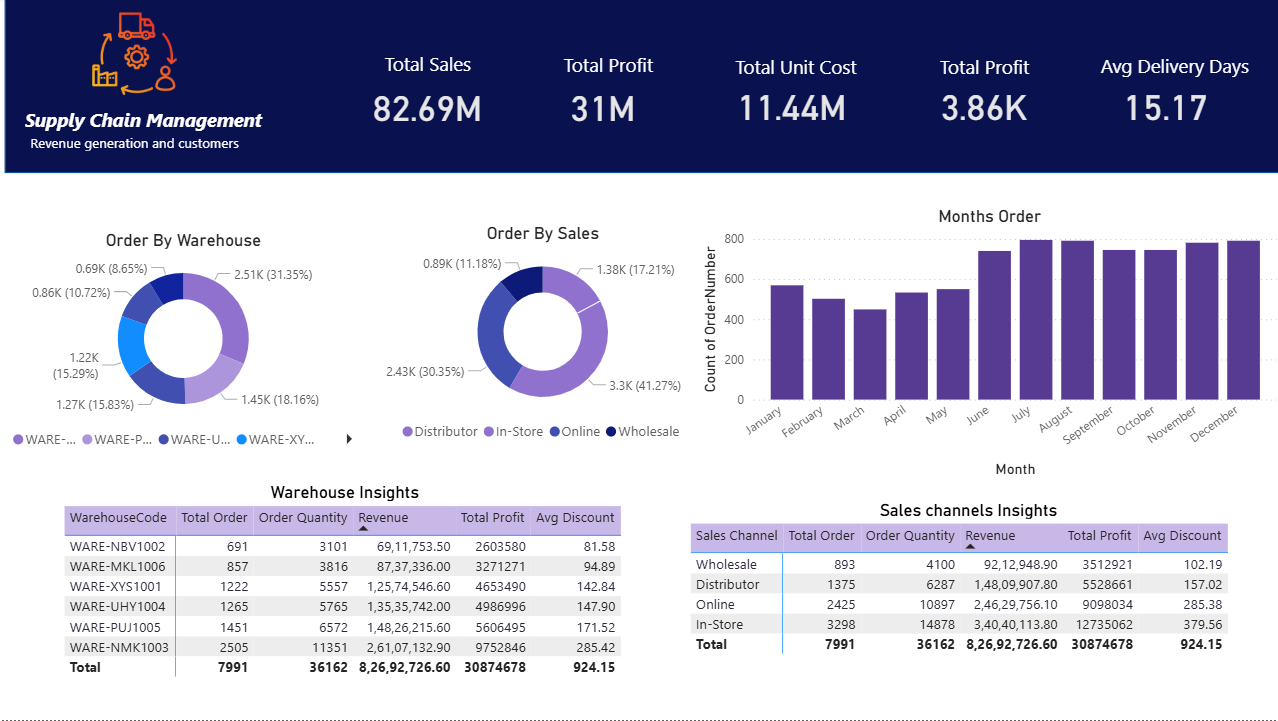

What the dashboard file says about the page in this screenshot:
{"tool":"powerbi","page":{"name":"Page 1","canvas":[1280,720],"ordinal":0},"visuals":[{"type":"shape","box":[8.7,0,1271.3,175.4],"z":0},{"type":"image","box":[89.6,0,97,113.2],"z":1000},{"type":"textbox","box":[23.6,104.5,258.7,34.8],"z":2000},{"type":"textbox","box":[23.6,130.6,228.9,27.4],"z":3000},{"type":"cardVisual","fields":{"Data":["Sum(main.Revenue)"]},"box":[347.1,65.9,164.2,78.4],"z":4000},{"type":"cardVisual","fields":{"Data":["Sum(main.Profit)"]},"box":[521.2,65.9,165.4,80.9],"z":5000},{"type":"cardVisual","fields":{"Data":["Sum(main.Unit Cost)"]},"box":[709.1,64.7,165.4,80.9],"z":6000},{"type":"cardVisual","fields":{"Data":["Avg(main.Delivery Days)"]},"box":[1081,64.7,165.4,80.9],"z":7000},{"type":"cardVisual","fields":{"Data":["Avg(main.Profit)"]},"box":[900.6,64.7,165.4,80.9],"z":8000},{"type":"textbox","box":[358.3,48.5,143.1,39.8],"z":9000},{"type":"textbox","box":[544.9,49.8,129.4,36.1],"z":10000},{"type":"textbox","box":[1081,51,184.1,36.1],"z":11000},{"type":"textbox","box":[919.3,52.2,129.4,36.1],"z":12000},{"type":"textbox","box":[717.8,52.2,156.7,41.1],"z":13000},{"type":"donutChart","title":"Order By Warehouse","fields":{"Category":["main.WarehouseCode"],"Y":["CountNonNull(main.OrderNumber)"]},"box":[11.2,231.4,350.8,227.6],"z":14000},{"type":"donutChart","title":"Order By Sales","fields":{"Y":["CountNonNull(main.OrderNumber)"],"Series":["main.Sales Channel"]},"box":[362,225.2,364.5,226.4],"z":15000},{"type":"columnChart","title":"Months Order","fields":{"Category":["main.OrderDate.Variation.Date Hierarchy.Month"],"Y":["CountNonNull(main.OrderNumber)"]},"box":[697.9,207.7,582.2,274.9],"z":16000},{"type":"pivotTable","title":"Warehouse Insights","fields":{"Values":["CountNonNull(main.OrderNumber)","Sum(main.Order Quantity)","Sum(main.Revenue)","Sum(main.Profit)","Sum(main.Discount Applied)"],"Rows":["main.WarehouseCode"]},"box":[63.4,482.7,567.2,205.3],"z":17000},{"type":"pivotTable","title":"Sales channels Insights","fields":{"Values":["CountNonNull(main.OrderNumber)","Sum(main.Order Quantity)","Sum(main.Revenue)","Sum(main.Profit)","Sum(main.Discount Applied)"],"Rows":["main.Sales Channel"]},"box":[686.7,500.1,562.3,204],"z":18000}]}

Visuals, with their boxes in screenshot pixels (x1, y1, x2, y2), scaled from the page's 1280x720 canvas onto the 1278x721 screenshot:
shape: l=9, t=0, r=1277, b=176
image: l=89, t=0, r=186, b=113
textbox: l=24, t=105, r=282, b=139
textbox: l=24, t=131, r=252, b=158
cardVisual - Sum(main.Revenue): l=347, t=66, r=511, b=145
cardVisual - Sum(main.Profit): l=520, t=66, r=686, b=147
cardVisual - Sum(main.Unit Cost): l=708, t=65, r=873, b=146
cardVisual - Avg(main.Delivery Days): l=1079, t=65, r=1244, b=146
cardVisual - Avg(main.Profit): l=899, t=65, r=1064, b=146
textbox: l=358, t=49, r=501, b=88
textbox: l=544, t=50, r=673, b=86
textbox: l=1079, t=51, r=1263, b=87
textbox: l=918, t=52, r=1047, b=88
textbox: l=717, t=52, r=873, b=93
"Order By Warehouse" donutChart: l=11, t=232, r=361, b=460
"Order By Sales" donutChart: l=361, t=226, r=725, b=452
"Months Order" columnChart: l=697, t=208, r=1277, b=483
"Warehouse Insights" pivotTable: l=63, t=483, r=630, b=689
"Sales channels Insights" pivotTable: l=686, t=501, r=1247, b=705
